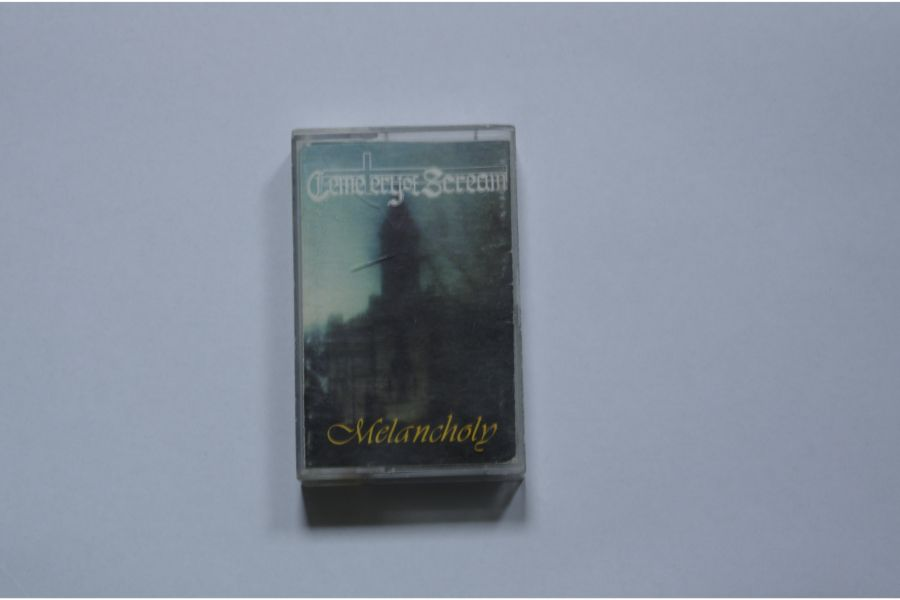album: (290, 125, 532, 484)
